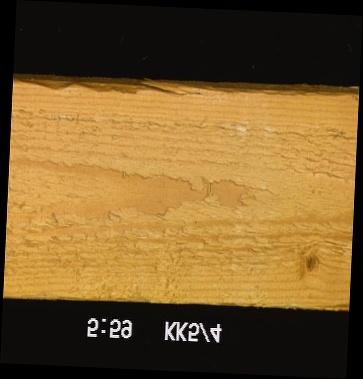small_knot: (301, 250, 322, 275)
split: (310, 300, 349, 311)
wave: (12, 80, 358, 103)
